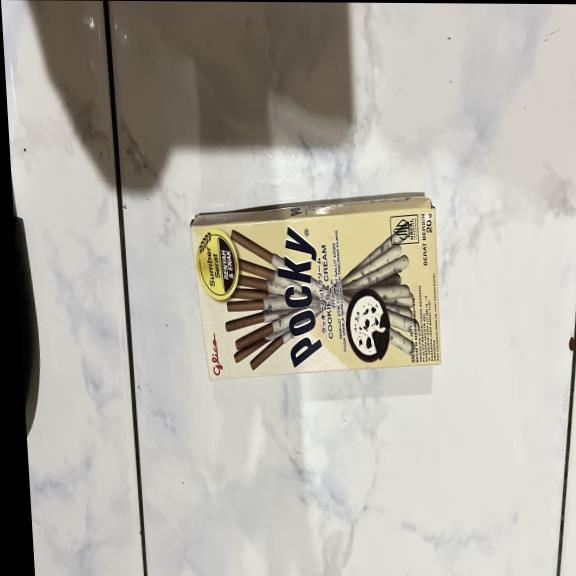Kertas: (190, 192, 443, 387)
